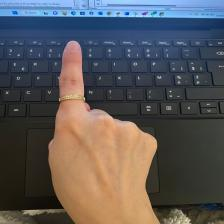one: (45, 36, 162, 206)
